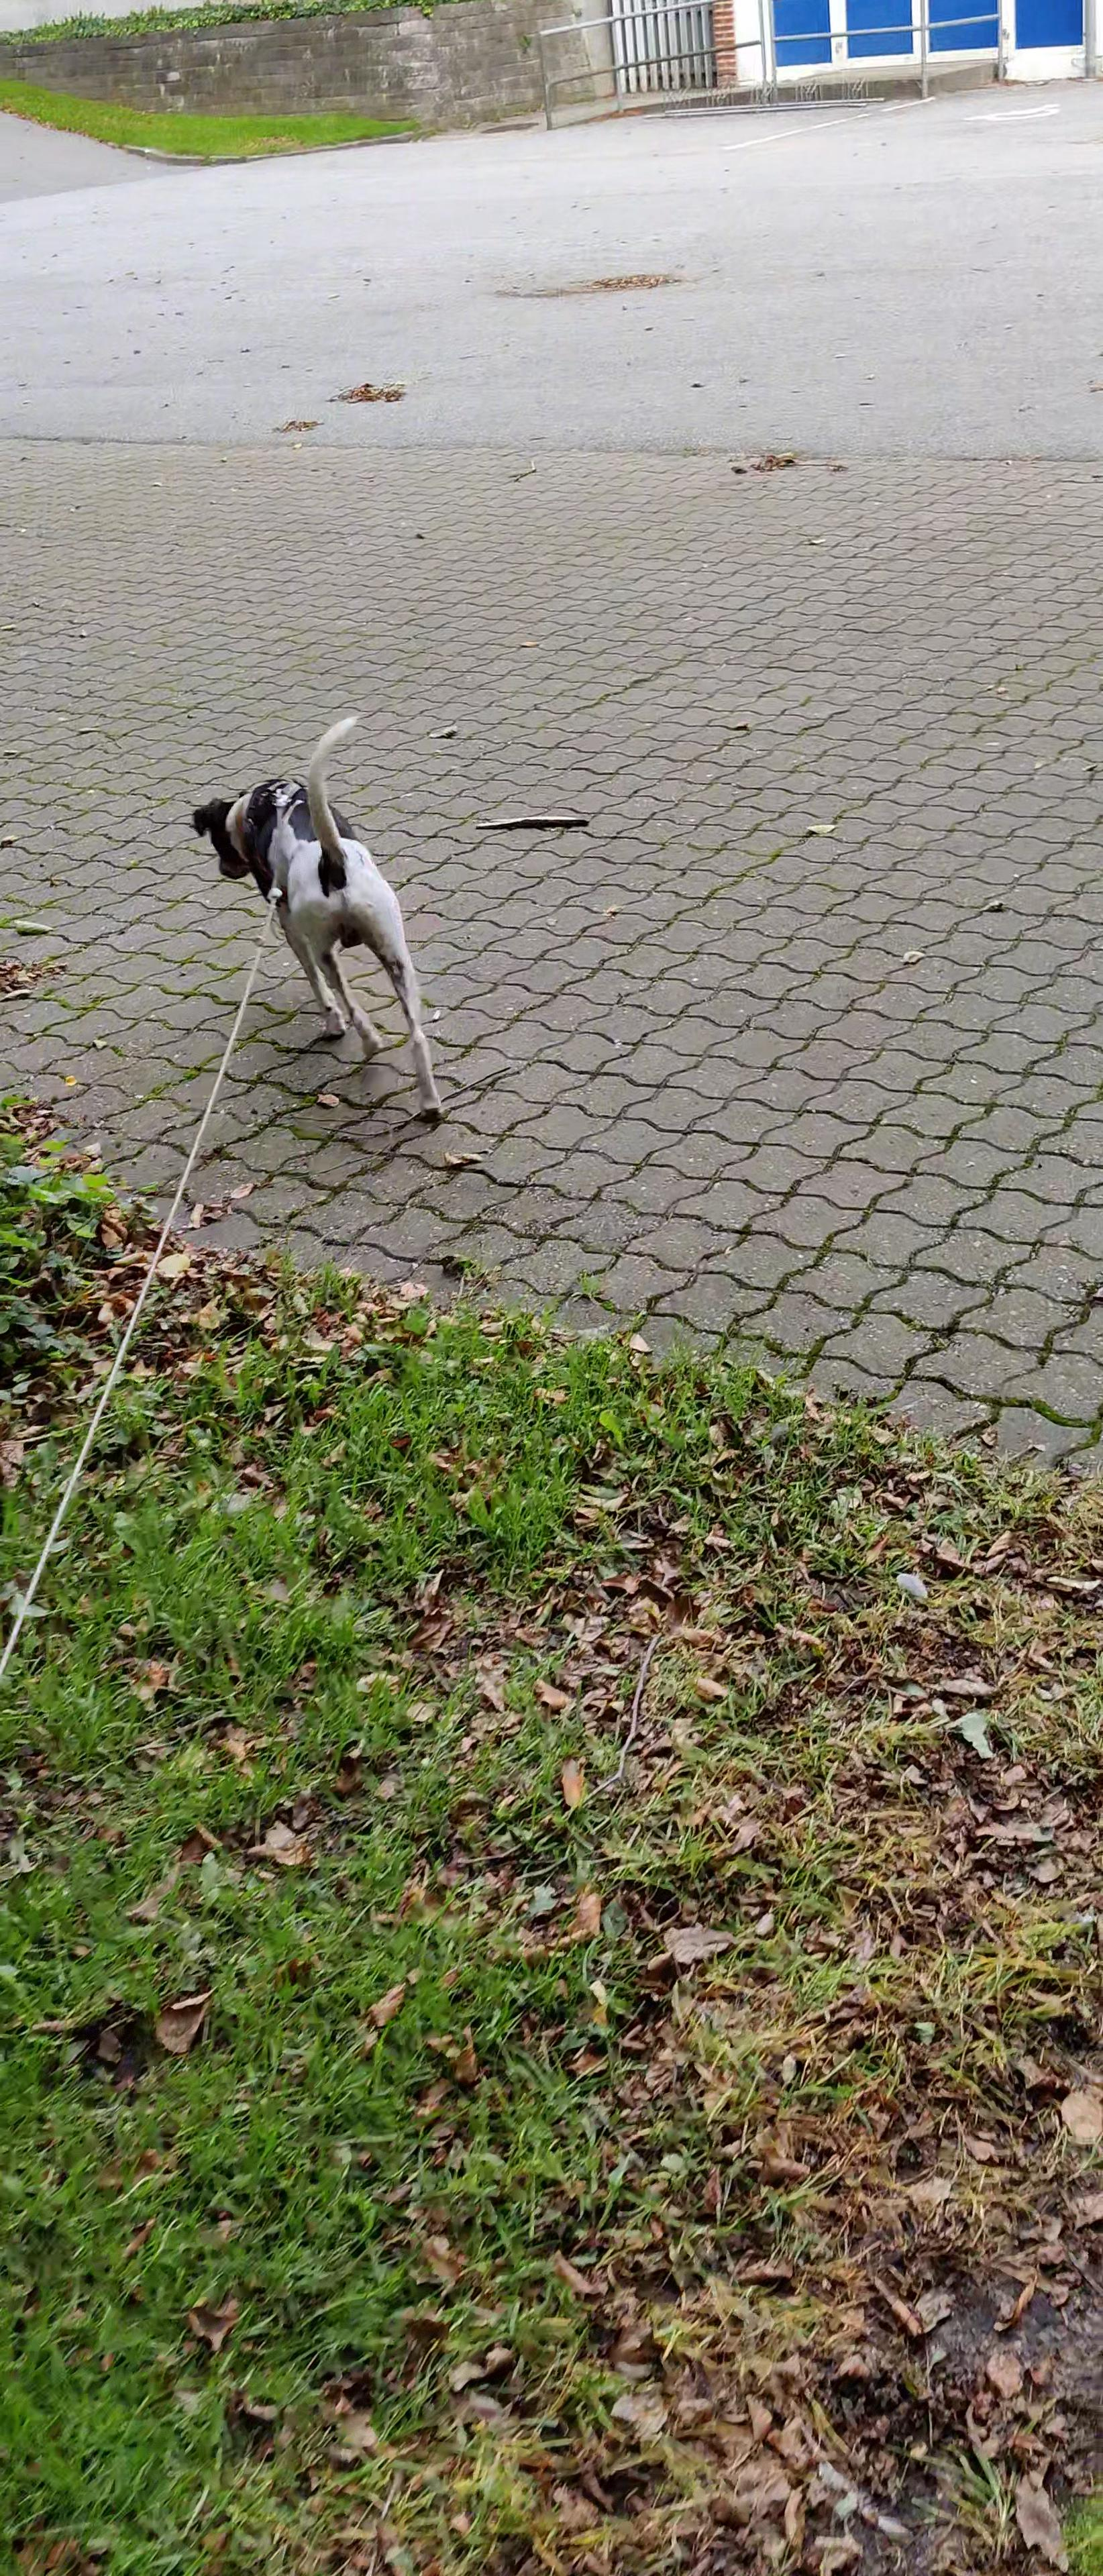Dog: (171, 700, 496, 1145)
